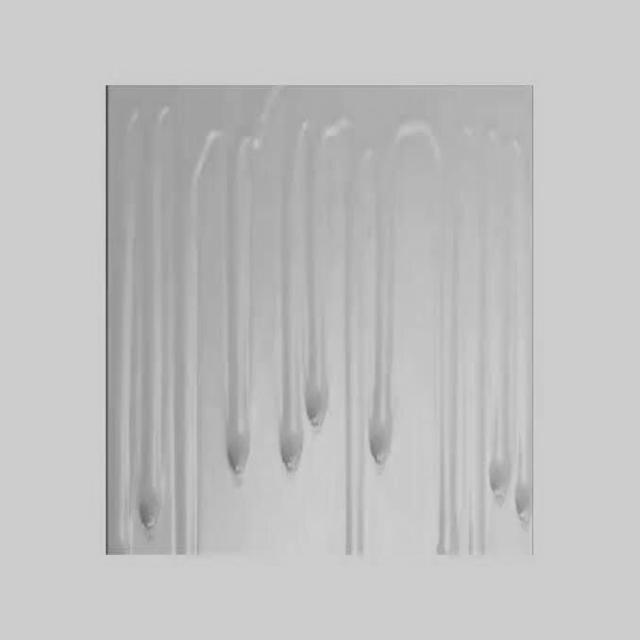paint drips: (413, 93, 526, 525), (329, 88, 428, 520), (121, 88, 207, 544), (256, 91, 340, 532), (197, 88, 267, 536)
